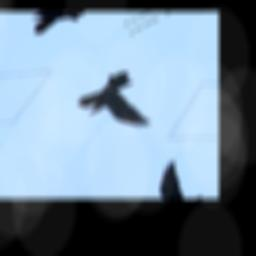Crow: (72, 67, 157, 151)
